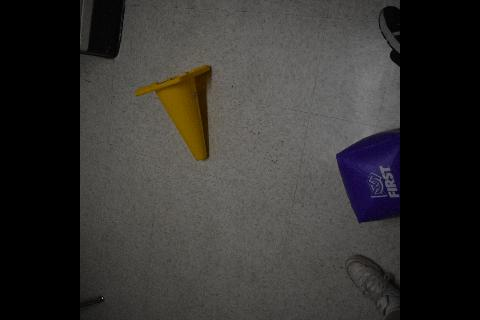cone: (134, 64, 212, 160)
cube: (334, 126, 400, 224)
